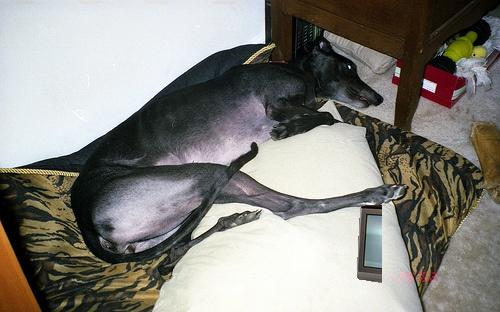tampered: (358, 206, 382, 283)
